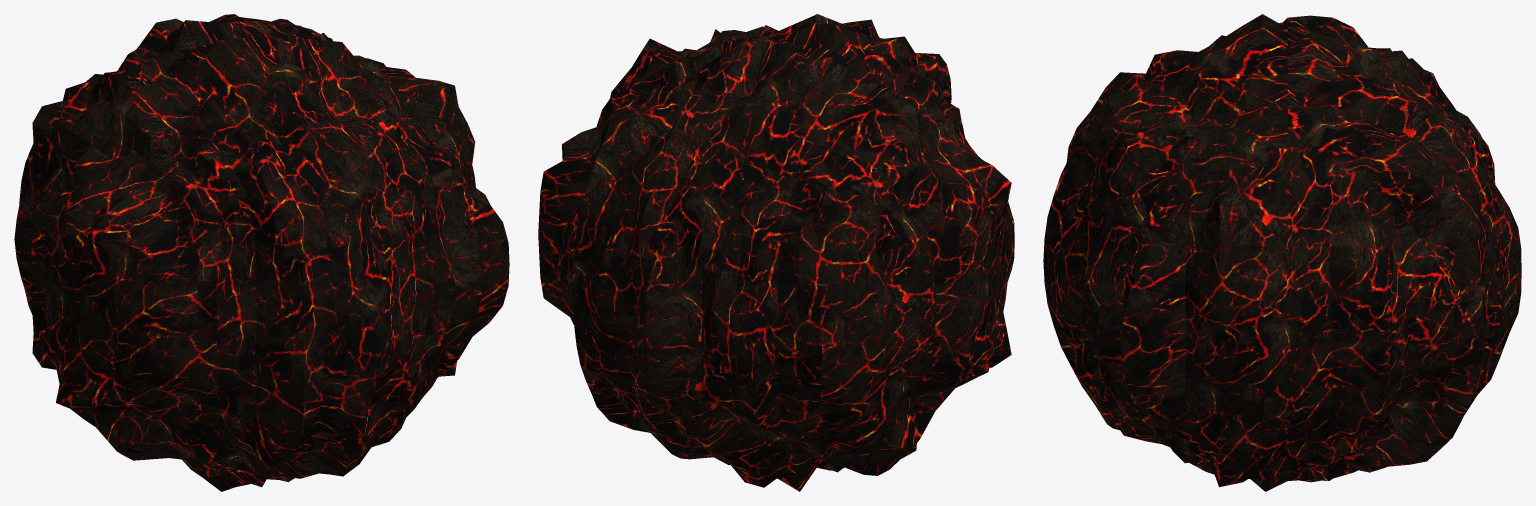
The model's file is asteroid12.obj.
3 renders of one model, left to right at view 1: azimuth 30°, elevation 25°; view 2: azimuth 150°, elevation 25°; view 3: azimuth 270°, elevation 25°, orthographic.
Visible parts, largest first — view 1: Cube_Cube.002; view 2: Cube_Cube.002; view 3: Cube_Cube.002.
Part boxes in pixels (x1=…): Cube_Cube.002: x1=14, y1=14, x2=509, y2=491; Cube_Cube.002: x1=538, y1=14, x2=1014, y2=491; Cube_Cube.002: x1=1043, y1=14, x2=1521, y2=491.
Size of the model in its own units: 1.78 by 1.89 by 1.81.
